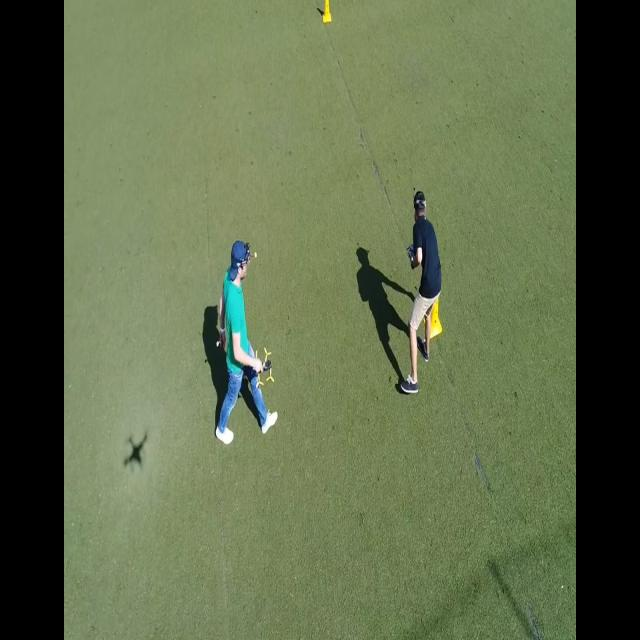humans: (214, 228, 280, 447), (396, 185, 445, 395)
